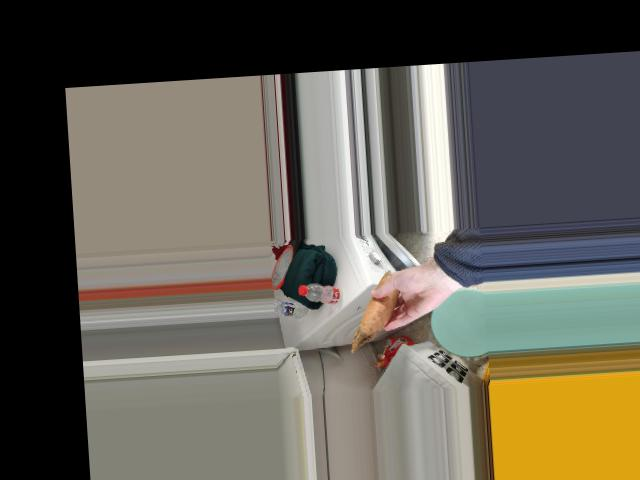sweet_potato: (359, 282, 400, 332)
